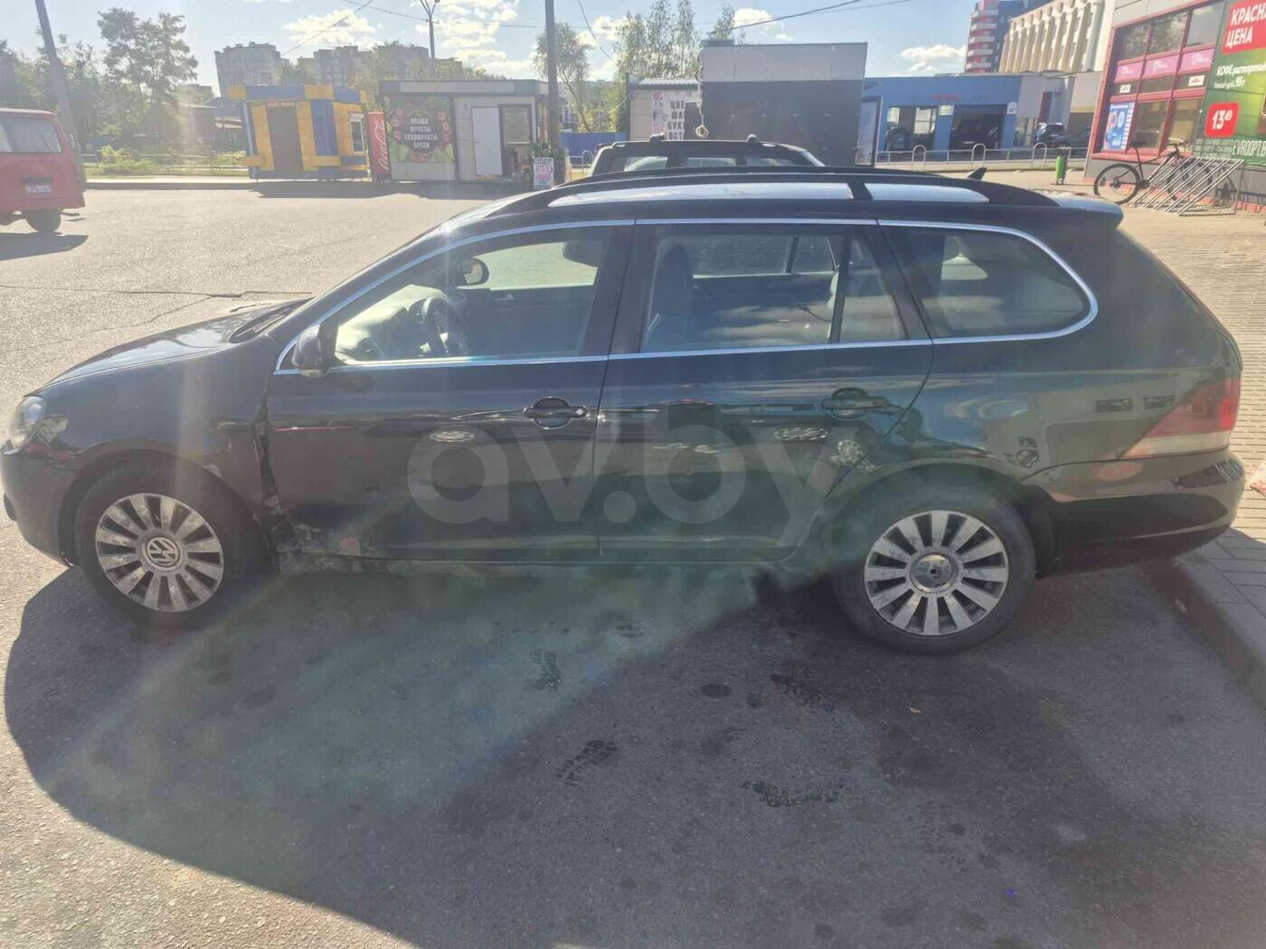Golf_2008-2013: (0, 176, 1241, 671)
